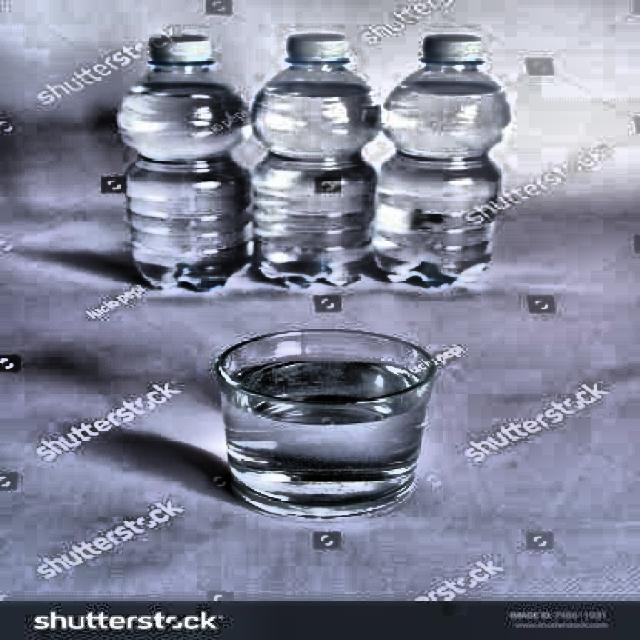Bottles: (219, 11, 392, 305), (102, 10, 257, 312), (372, 22, 511, 306)
